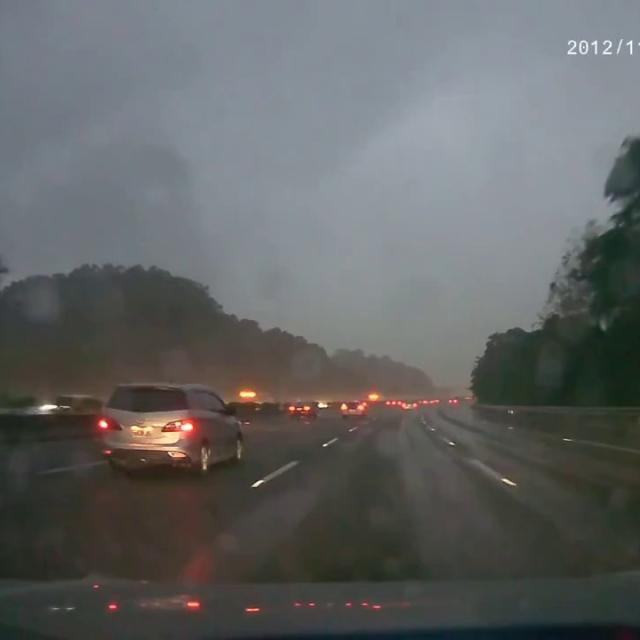Car: (95, 379, 246, 478), (287, 399, 316, 418), (420, 394, 459, 408), (339, 400, 365, 418), (402, 396, 416, 412), (386, 398, 401, 406)
